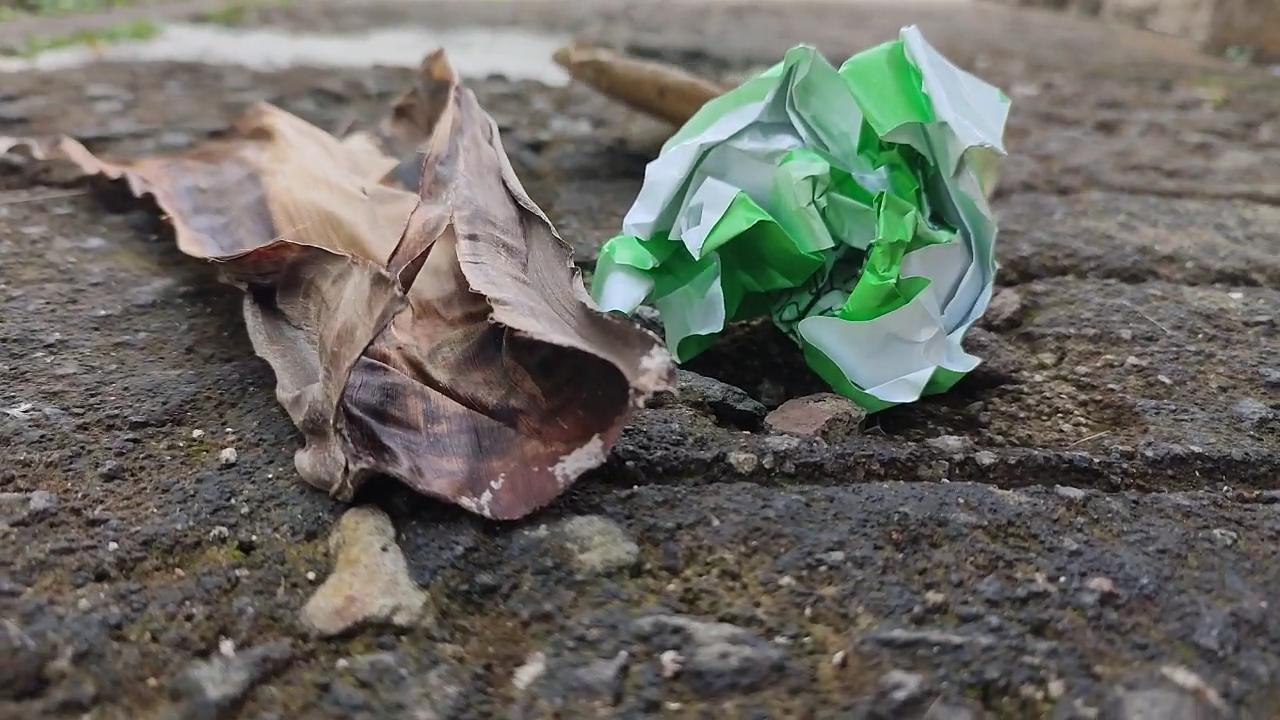Paper: (579, 15, 1016, 427)
